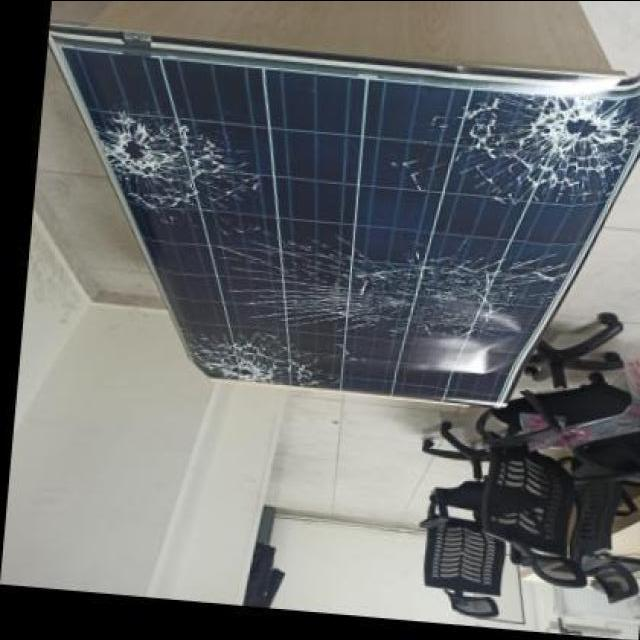cracked: (52, 38, 620, 399)
